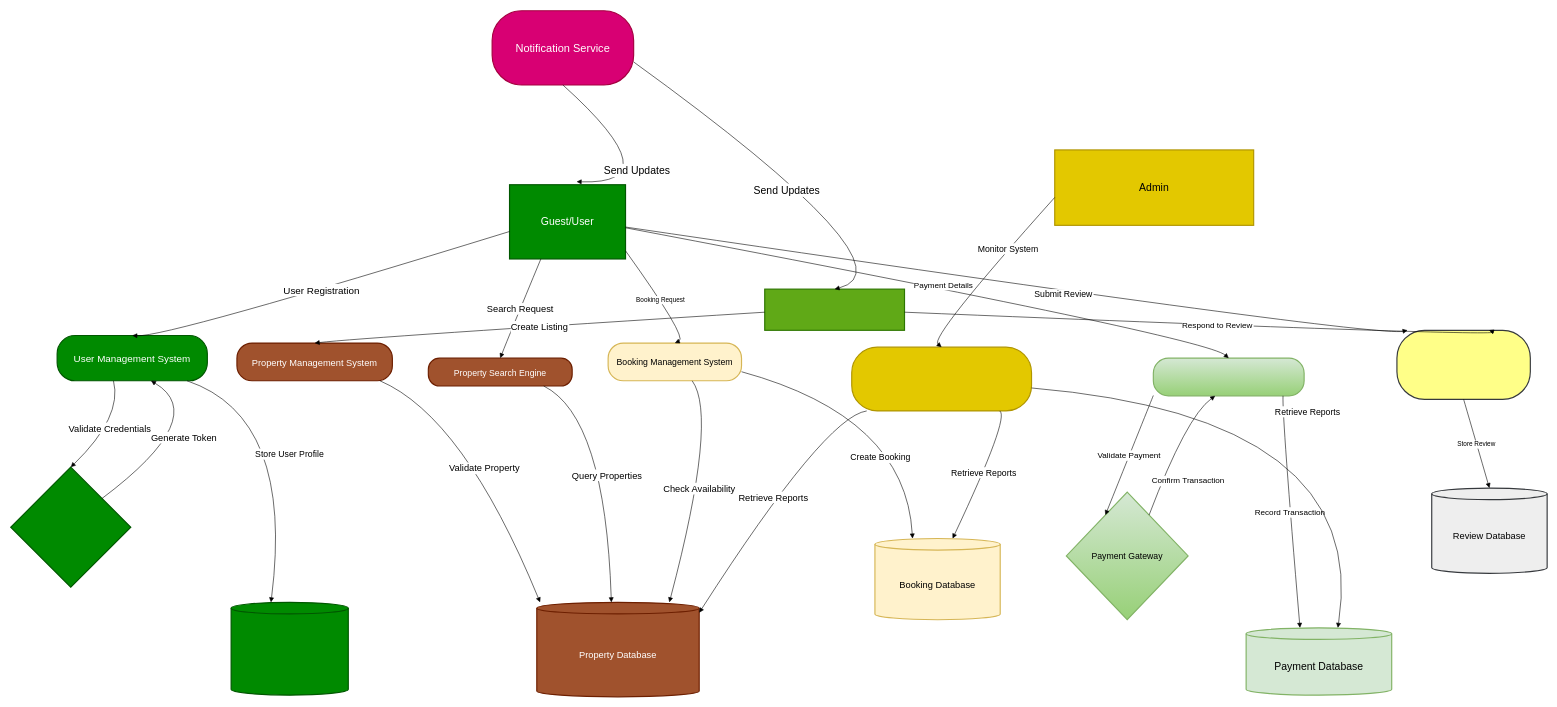
Some shapes in this 1557 by 707 pixel diagram are drawn without their labels. Here are the shapes that lost their labels. From the top down, the centre of each, then its label:
pixel 834 309: Host
pixel 941 378: Admin Dashboard
pixel 1228 376: Payment Processing System
pixel 1463 364: Review Management System
pixel 70 527: Authentication Service
pixel 289 648: User Database
